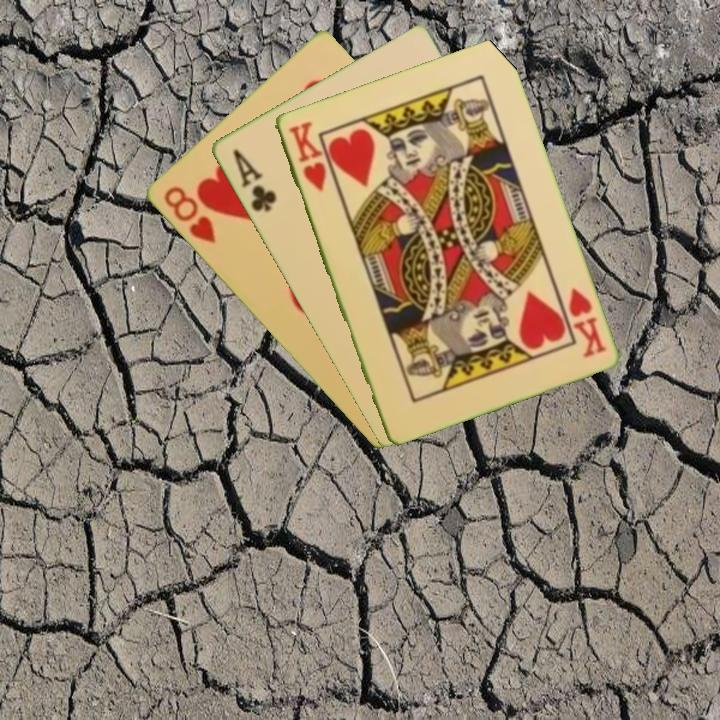8h: (160, 182, 218, 246)
Ac: (228, 144, 279, 215)
Kh: (284, 117, 329, 194), (564, 284, 609, 361)
